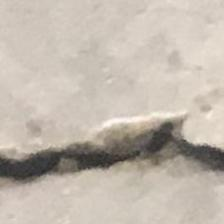Crack: (2, 110, 224, 206)
